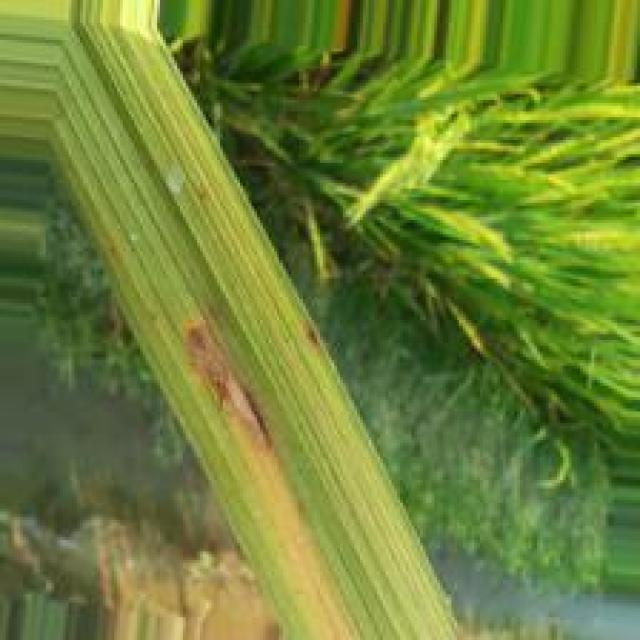Leaf_Blast: (179, 314, 280, 464)
